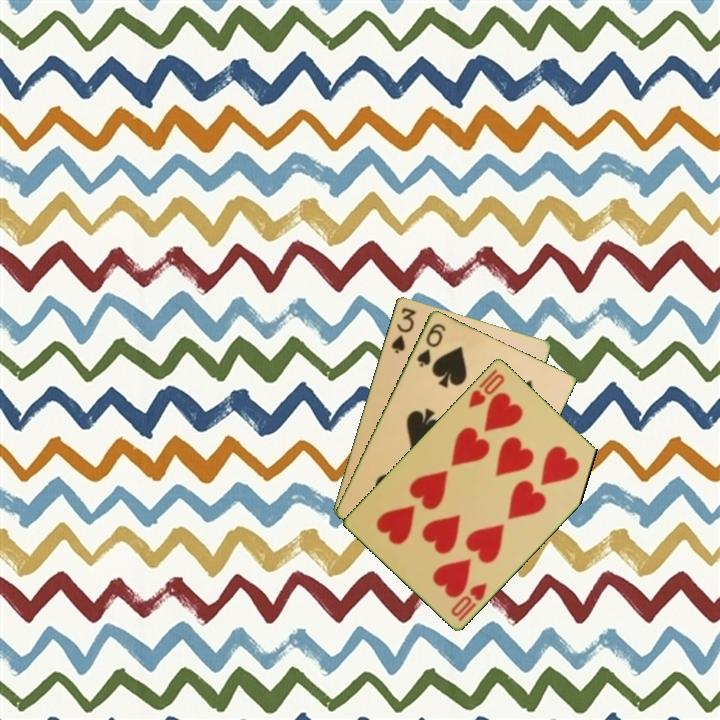10h: (464, 365, 507, 411), (447, 578, 490, 624)
3s: (387, 303, 419, 356)
6s: (413, 319, 449, 370)
